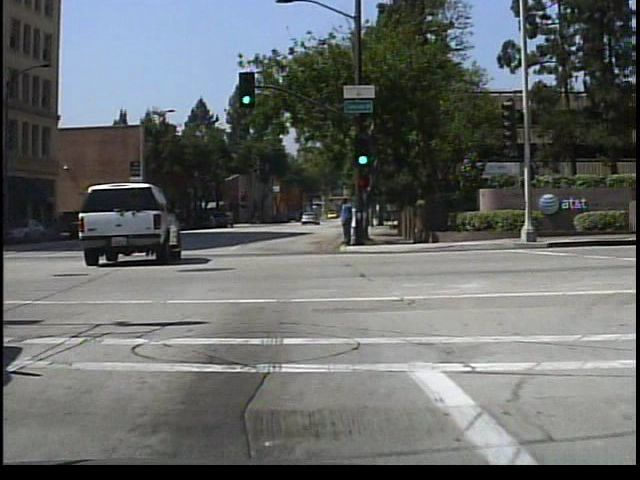person: (335, 192, 355, 248), (343, 195, 361, 244)
